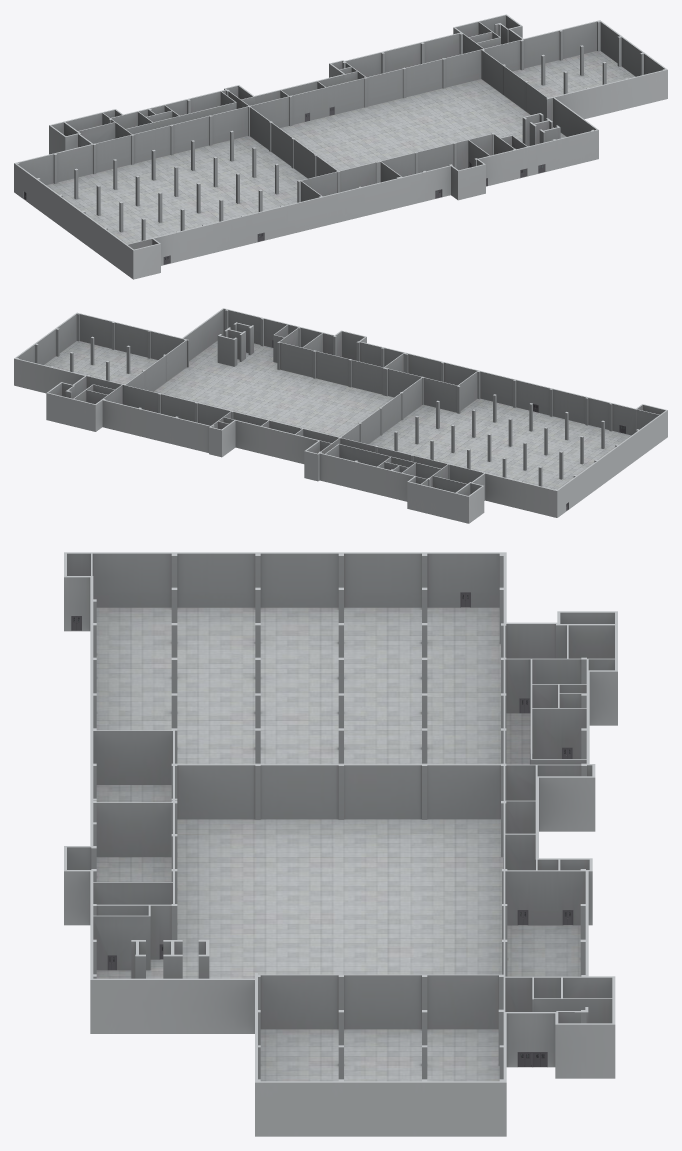
Rendered from LXWZ_3-1F.glb.
3 views of the same model, one above another, from view 1: azimuth 30°, elevation 25°; view 2: azimuth 150°, elevation 25°; view 3: azimuth 270°, elevation 25° (orthographic). The views are drawn at different scales.
Bounding box in the file's own units: 139 × 6.62 × 61.58.
1 material, 1 textured.
